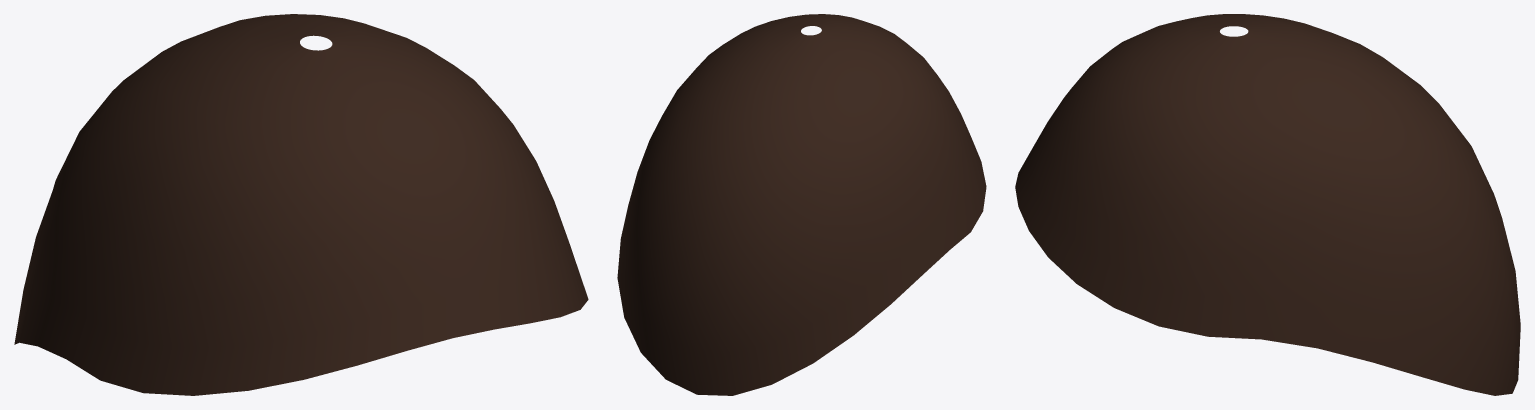
Rendered from crop.glb.
3 renders of one model, left to right at view 1: azimuth 30°, elevation 25°; view 2: azimuth 150°, elevation 25°; view 3: azimuth 270°, elevation 25°, orthographic. The views are drawn at different scales.
Parts seen in each view (by area): view 1: hair-crop; view 2: hair-crop; view 3: hair-crop.
Boxes of the visible parts, bbox=[...] form: hair-crop: bbox=[14, 14, 588, 395]; hair-crop: bbox=[617, 14, 986, 395]; hair-crop: bbox=[1015, 14, 1520, 395].
Size of the model in its own units: 0.1606 by 0.1441 by 0.1892.
